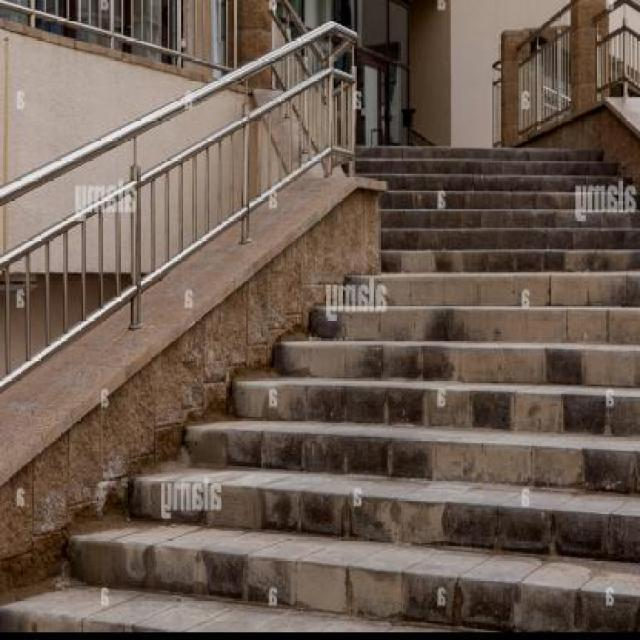stair: (302, 68, 638, 624)
